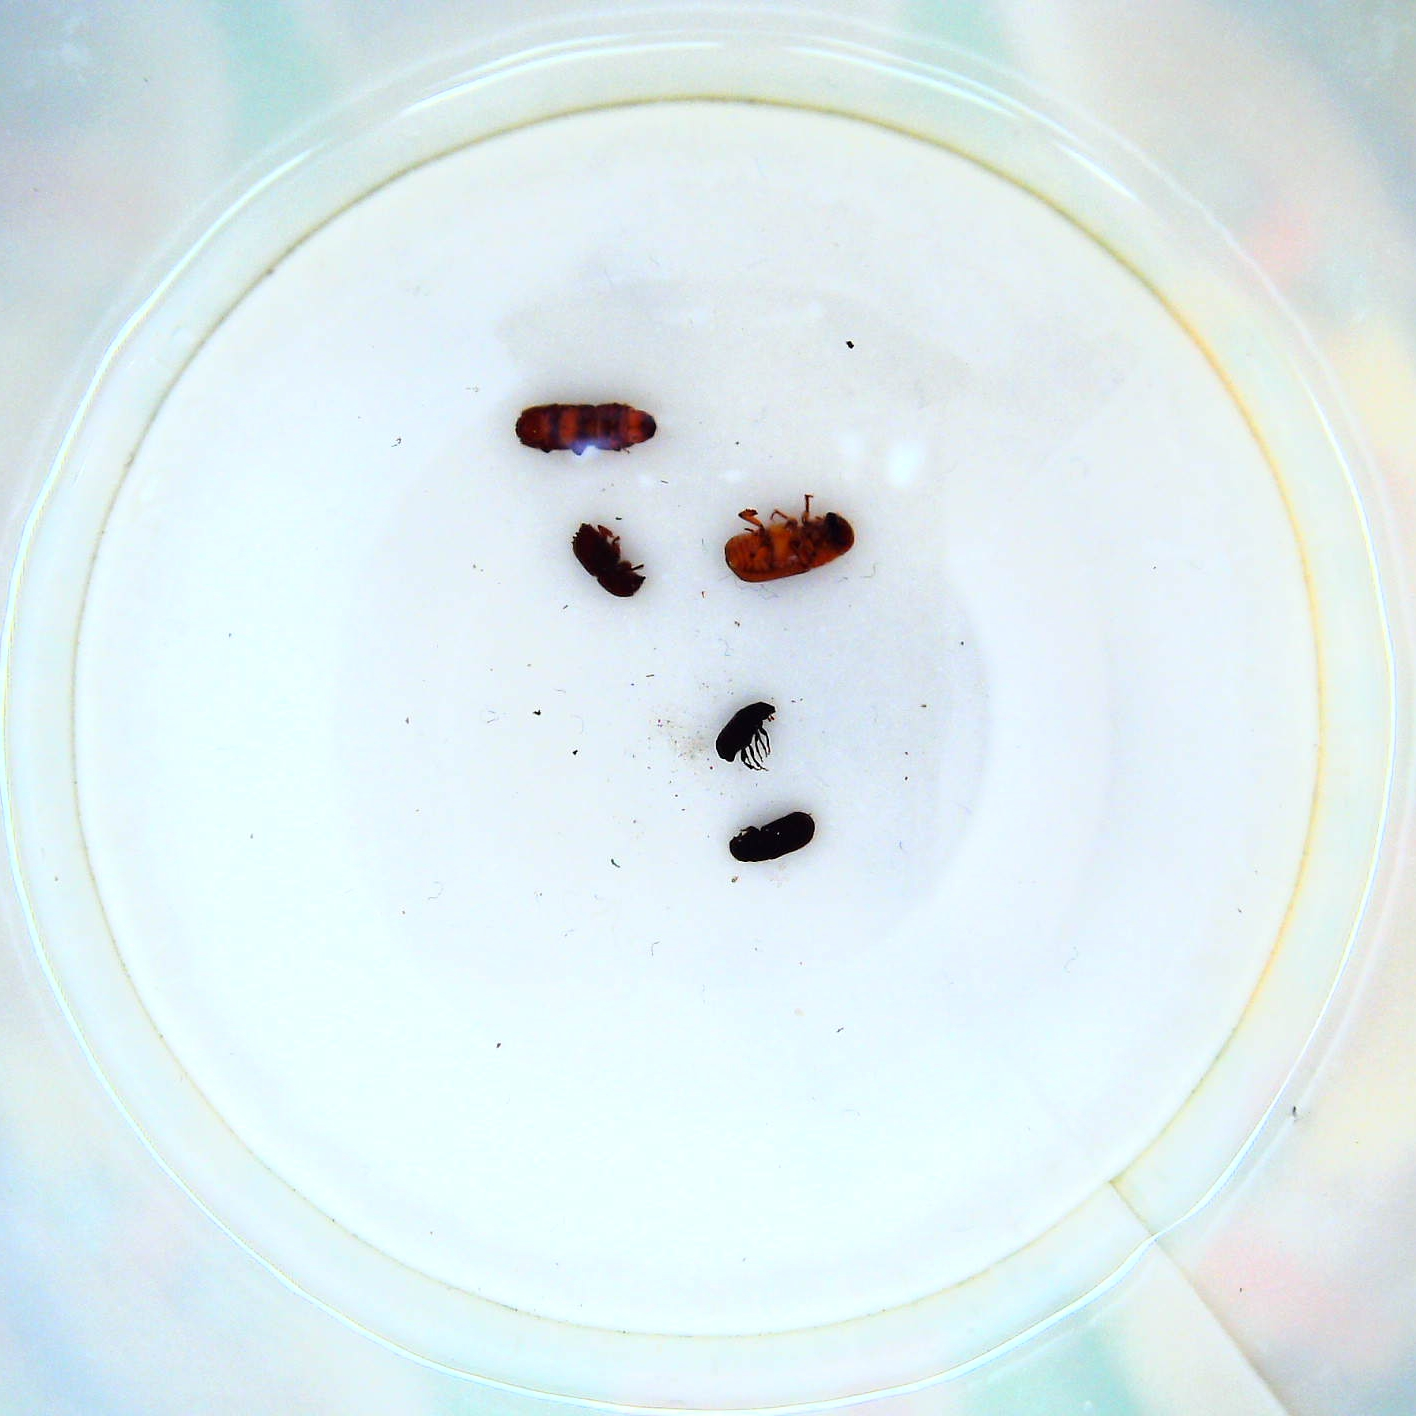Boerner: (513, 399, 660, 463)
Leconte: (718, 490, 860, 587)
armandi: (724, 807, 823, 867)
coleoptera: (716, 702, 787, 781)
linnaeus: (571, 515, 650, 607)
